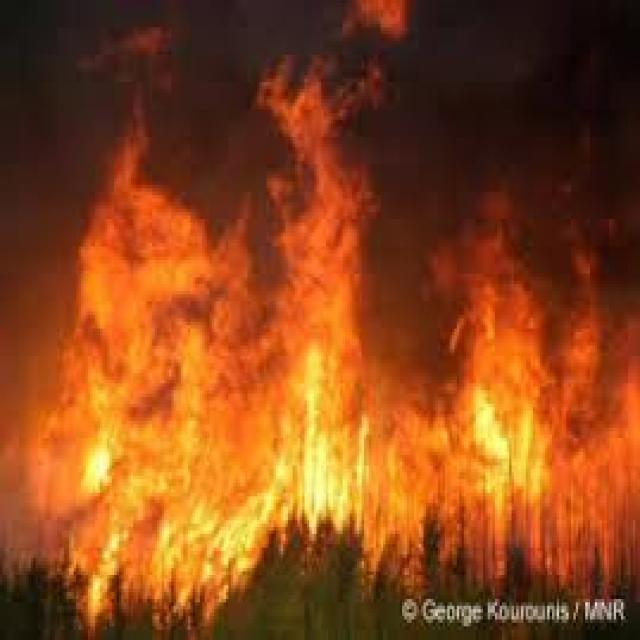Fire: (64, 0, 640, 594)
